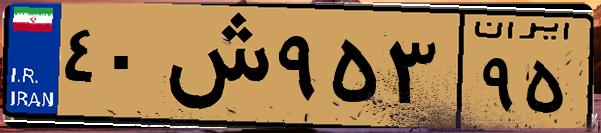0: (110, 28, 158, 98)
3: (385, 28, 445, 110)
4: (57, 26, 110, 100)
5: (330, 28, 385, 110), (525, 38, 570, 115)
9: (270, 28, 330, 110), (475, 38, 525, 113)
ش: (158, 12, 270, 120)
